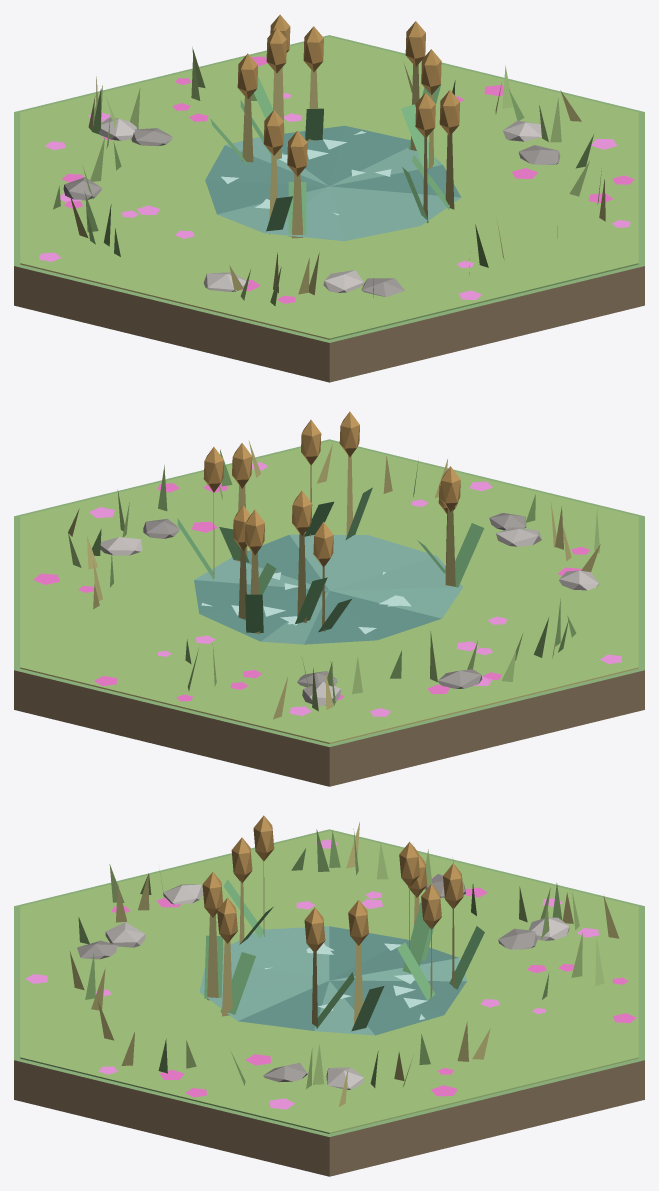
File: wetland_keystone_sprint3.glb
3 renders of one model, top to bottom at view 1: azimuth 30°, elevation 25°; view 2: azimuth 150°, elevation 25°; view 3: azimuth 270°, elevation 25°, orthographic.
Parts seen in each view (by area): view 1: GrassTerrain, HexBase, WaterPool, Reed_Head.006, Reed_Head.005, Reed_Head.009, Reed_Head.001, Reed_Head.002, Reed_Head.008, Reed_Head.004, Reed_Head.003, Reed_Head.007 (+15 smaller); view 2: GrassTerrain, HexBase, WaterPool, Reed_Leaf.007, Reed_Leaf, Stone_22, Reed_Head.007, Stone_24, Reed_Head.003, Reed_Head.009, Reed_Head.002, Reed_Head.005 (+9 smaller); view 3: GrassTerrain, HexBase, WaterPool, Reed_Leaf.004, Reed_Stalk.005, Stone_22, Reed_Leaf.002, Reed_Head.001, Reed_Head.004, Reed_Head, Reed_Head.002, Reed_Head.006 (+16 smaller).
Part boxes in pixels (x1,y1,x2,y2): GrassTerrain: [20, 37, 638, 339]; HexBase: [14, 35, 644, 382]; WaterPool: [205, 125, 461, 241]; Reed_Head.006: [287, 130, 307, 176]; Reed_Head.005: [415, 92, 435, 138]; Reed_Head.009: [421, 49, 441, 94]; Reed_Head.001: [303, 26, 323, 72]; Reed_Head.002: [266, 27, 286, 73]; Reed_Head.008: [405, 21, 425, 66]; Reed_Head.004: [439, 90, 459, 135]; Reed_Head.003: [237, 53, 257, 99]; Reed_Head.007: [263, 110, 283, 155]; GrassTerrain: [20, 441, 638, 743]; HexBase: [14, 439, 644, 786]; WaterPool: [194, 534, 462, 644]; Reed_Leaf.007: [455, 523, 484, 587]; Reed_Leaf: [245, 594, 263, 632]; Stone_22: [496, 527, 541, 546]; Reed_Head.007: [440, 466, 460, 511]; Stone_24: [100, 537, 142, 555]; Reed_Head.003: [313, 521, 333, 567]; Reed_Head.009: [232, 443, 252, 488]; Reed_Head.002: [292, 490, 312, 536]; Reed_Head.005: [339, 411, 359, 457]; GrassTerrain: [20, 831, 638, 1133]; HexBase: [14, 829, 644, 1176]; WaterPool: [199, 926, 466, 1035]; Reed_Leaf.004: [220, 952, 255, 1014]; Reed_Stalk.005: [207, 914, 218, 1000]; Stone_22: [105, 922, 145, 947]; Reed_Leaf.002: [402, 902, 429, 973]; Reed_Head.001: [421, 883, 441, 929]; Reed_Head.004: [217, 897, 237, 943]; Reed_Head: [443, 863, 463, 908]; Reed_Head.002: [399, 841, 419, 887]; Reed_Head.006: [231, 837, 252, 883].
Size of the model in its own units: 5 by 1.33 by 4.33.
